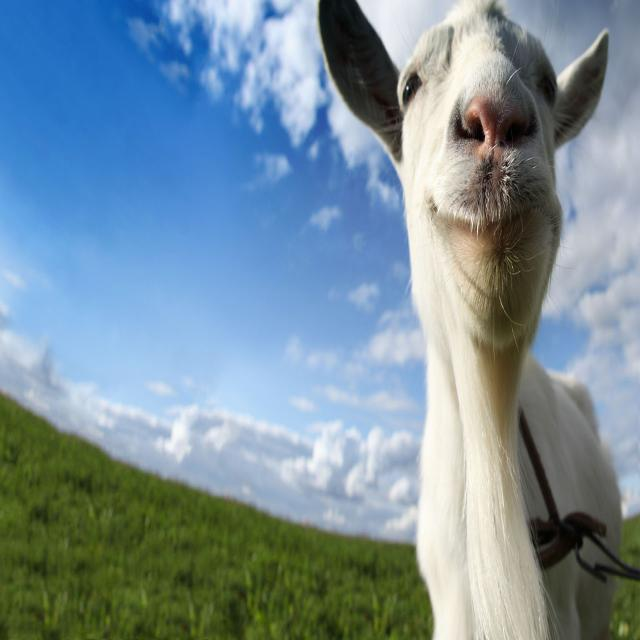Goat: (305, 3, 640, 637)
